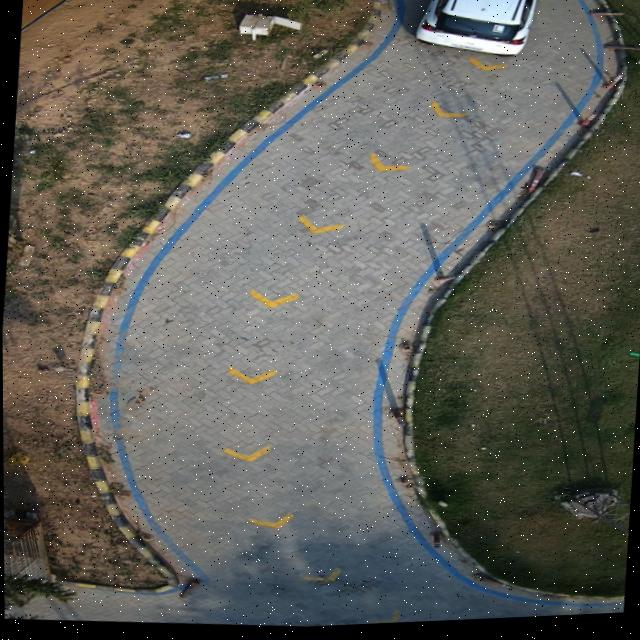car: (414, 0, 546, 61)
